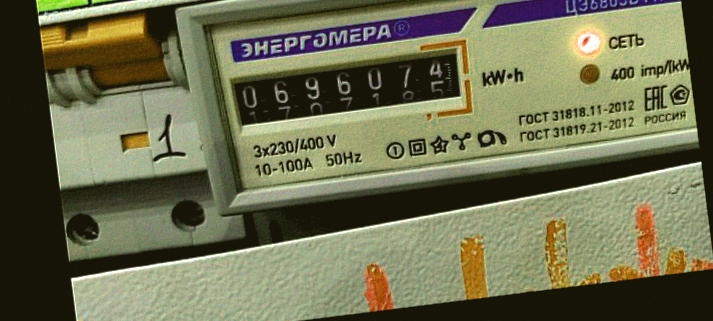0: (239, 82, 261, 110), (364, 64, 385, 92)
4: (426, 55, 444, 79)
5: (429, 78, 447, 100)
6: (333, 68, 354, 97), (270, 78, 291, 105)
7: (396, 61, 415, 89)
9: (302, 73, 321, 101)
screen: (218, 36, 479, 147)
